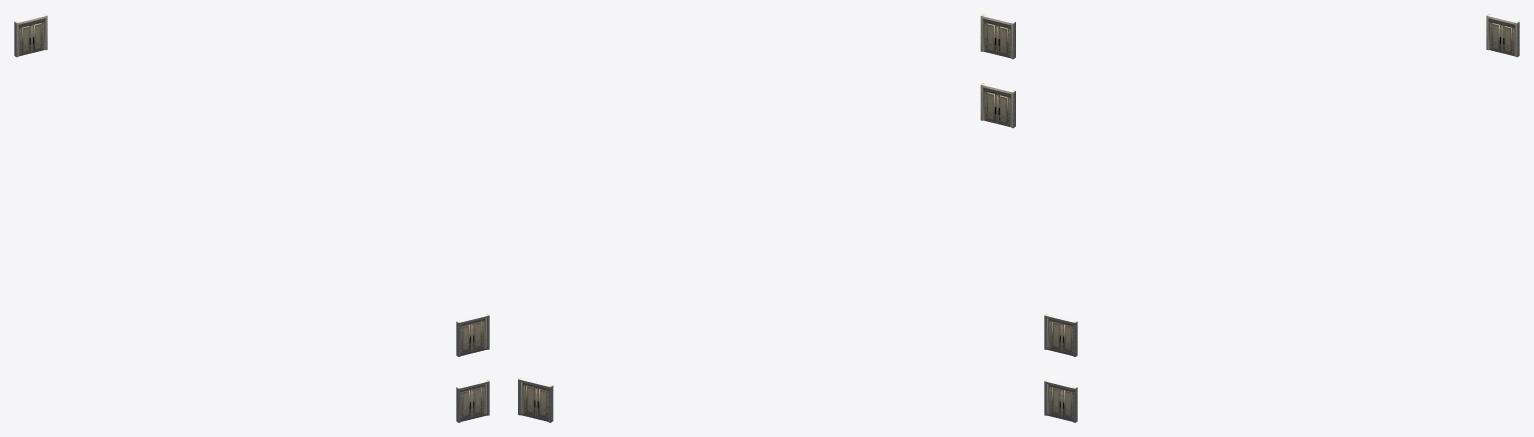
Rendered from Doors.fbx.
3 views of the same model, side by side, from view 1: azimuth 30°, elevation 25°; view 2: azimuth 150°, elevation 25°; view 3: azimuth 330°, elevation 25° (orthographic). The views are drawn at different scales.
Visible parts, largest first — view 1: Front_door_3, Front_door_4, Front_door; view 2: Front_door, Front_door_3, Front_door_4; view 3: Front_door_3, Front_door_4, Front_door.
Part boxes in pixels (<box>): Front_door_3: <box>456,379,489,422</box>; Front_door_4: <box>456,313,489,356</box>; Front_door: <box>14,14,47,57</box>; Front_door: <box>518,377,553,422</box>; Front_door_3: <box>980,83,1015,128</box>; Front_door_4: <box>980,14,1015,59</box>; Front_door_3: <box>1044,379,1077,422</box>; Front_door_4: <box>1044,313,1077,356</box>; Front_door: <box>1486,14,1519,57</box>.
Size of the model in its own units: 386 by 1181 by 9517.
